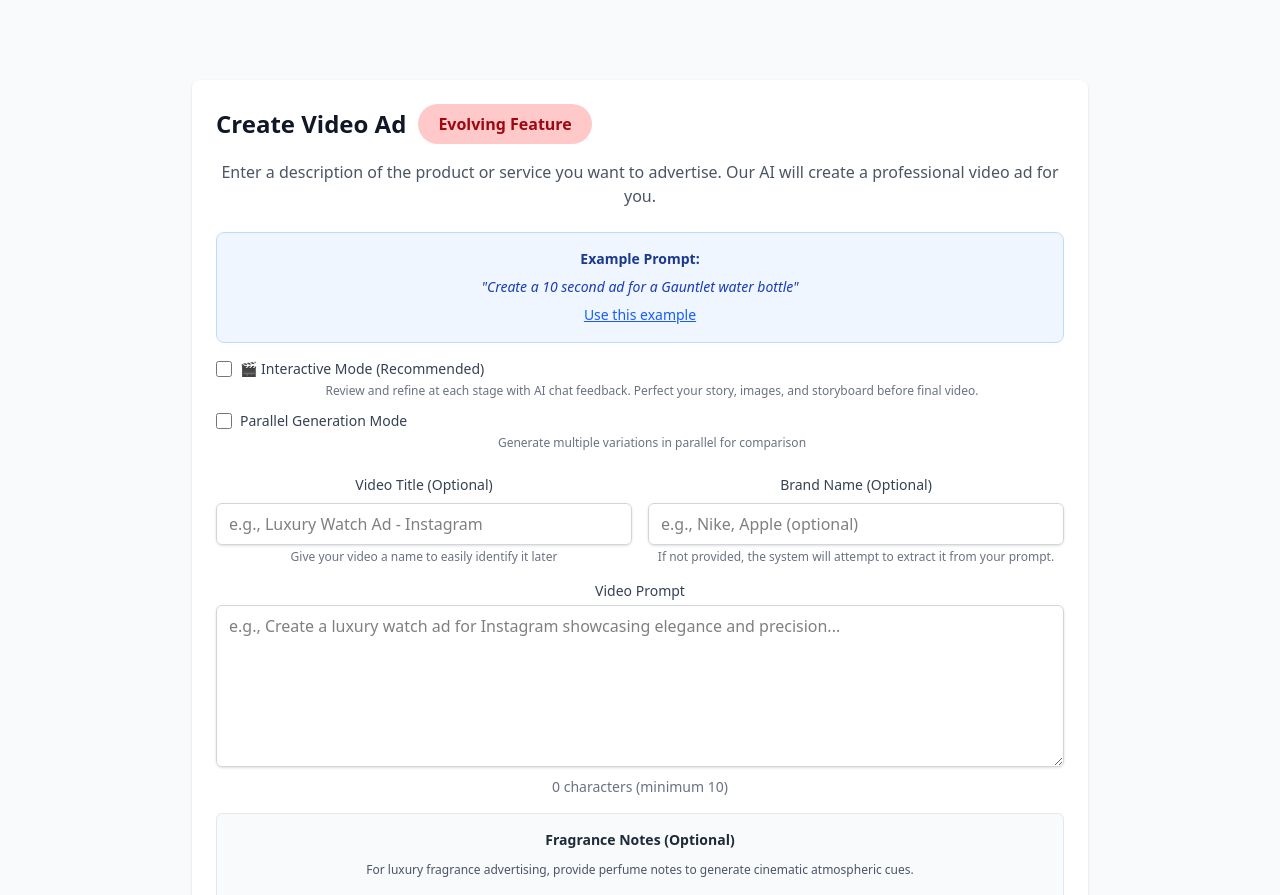
Test case: Dashboard Prompt Validation › should show error for prompt shorter than 10 characters
The width and height of the screenshot is (1280, 895).
Enter short prompt (9 characters)
Replace the text in the text box labelled "Video Prompt" with "short" at (640, 686), box [216,605,1064,767]
(page scrolled)
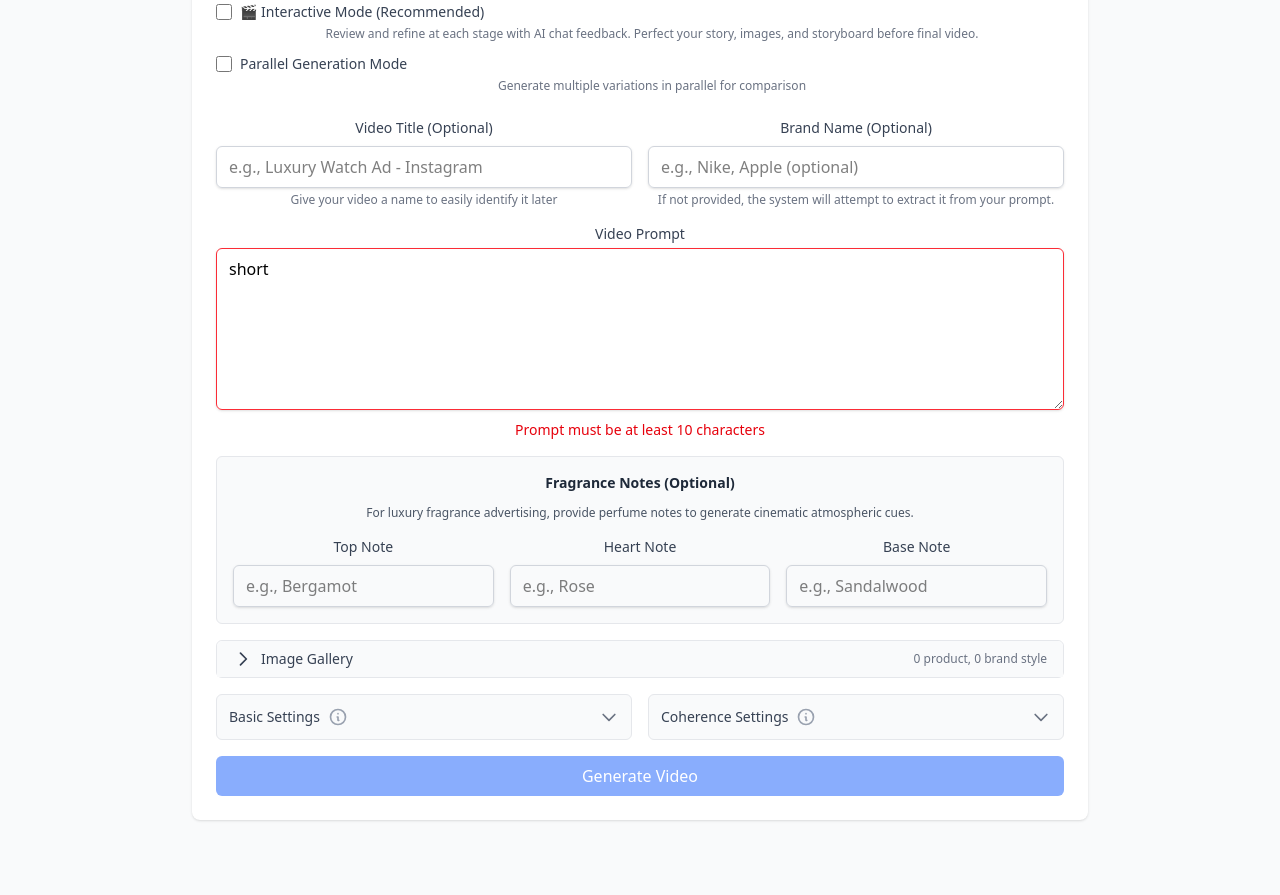
Expected: the button "Generate Video" is disabled, [216,756,1064,796]
Now the text "Prompt must be at least 10 characters" is shown, box [515,420,765,439]
